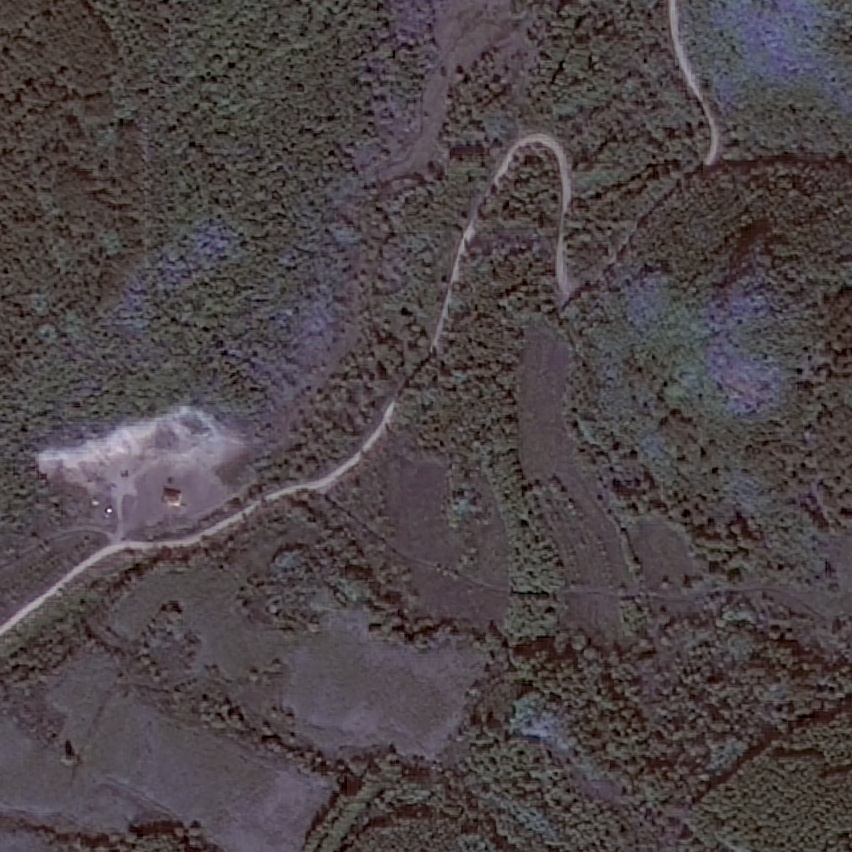slope: (43, 404, 257, 495)
